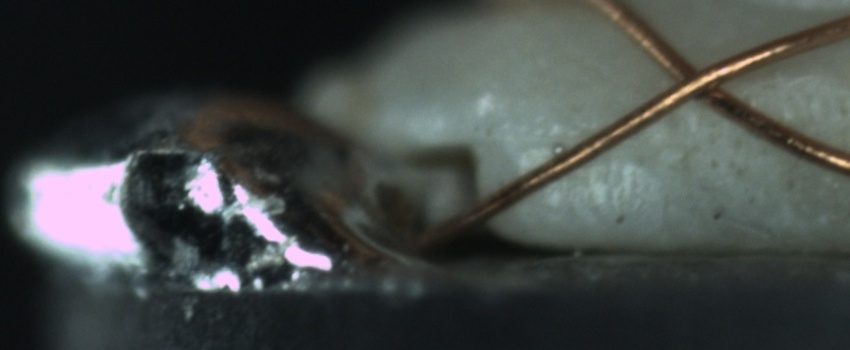CL: (651, 39, 748, 115)
DL: (512, 115, 641, 172)
